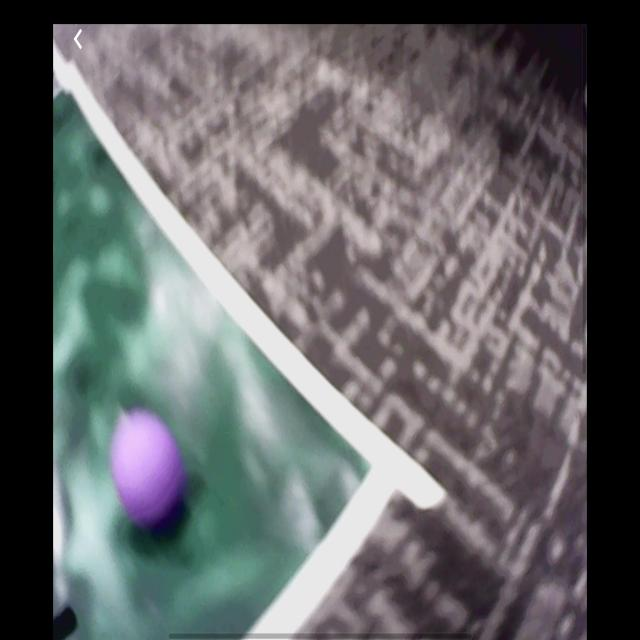ball: (110, 407, 188, 534)
